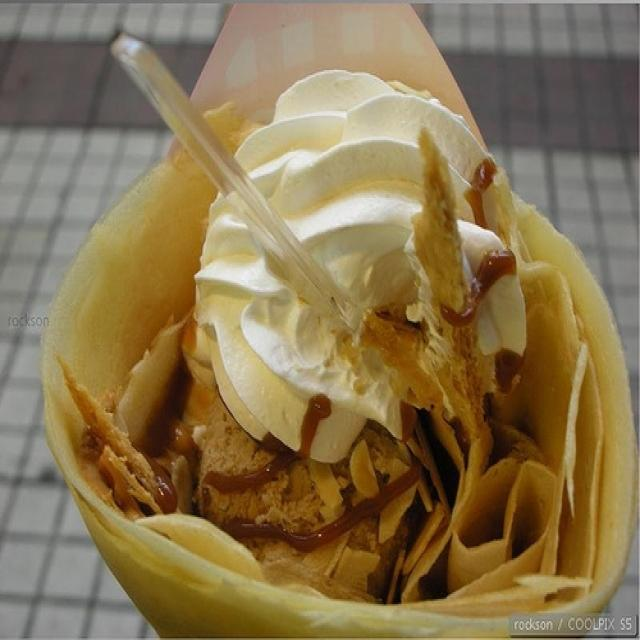鸡蛋料理: (85, 70, 496, 487)
